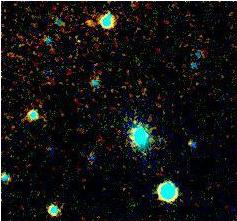star: (73, 6, 103, 36)
